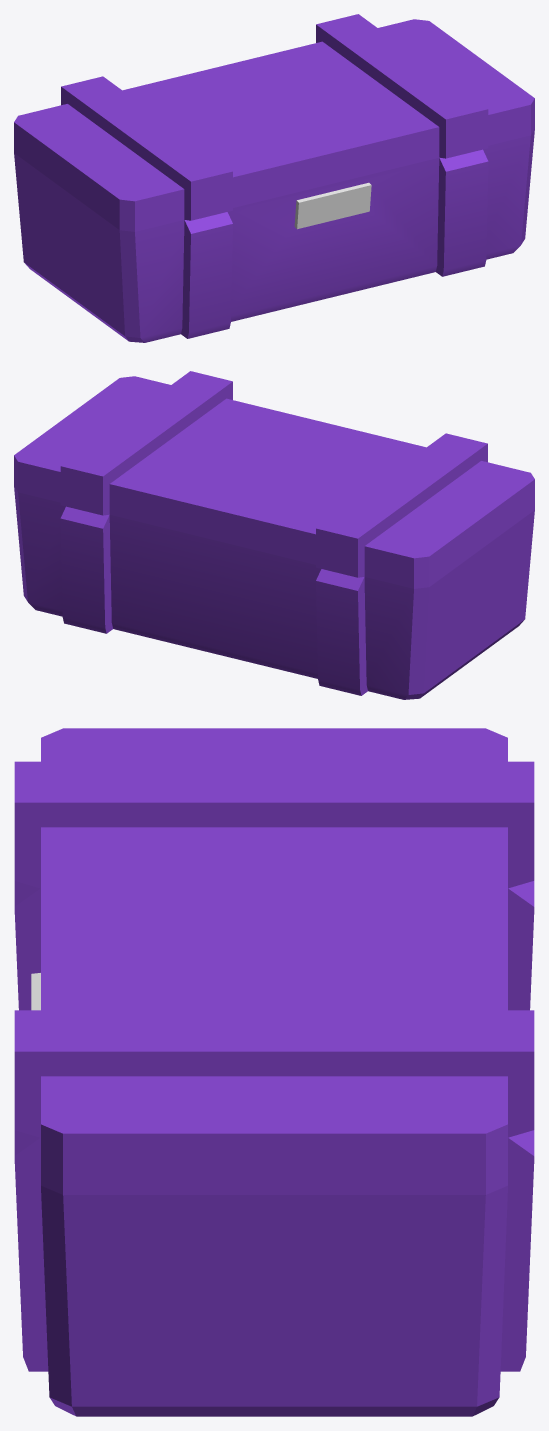
File: Handle.009.fbx
3 renders of one model, top to bottom at view 1: azimuth 30°, elevation 25°; view 2: azimuth 150°, elevation 25°; view 3: azimuth 270°, elevation 25°, orthographic. The views are drawn at different scales.
Parts seen in each view (by area): view 1: Handle.009; view 2: Handle.009; view 3: Handle.009.
Boxes of the visible parts, box(x1,y1,x2,y2) form: Handle.009: box(14, 14, 534, 342); Handle.009: box(14, 371, 534, 699); Handle.009: box(14, 728, 534, 1416).
Size of the model in its own units: 1.63 by 0.6015 by 0.8859.
